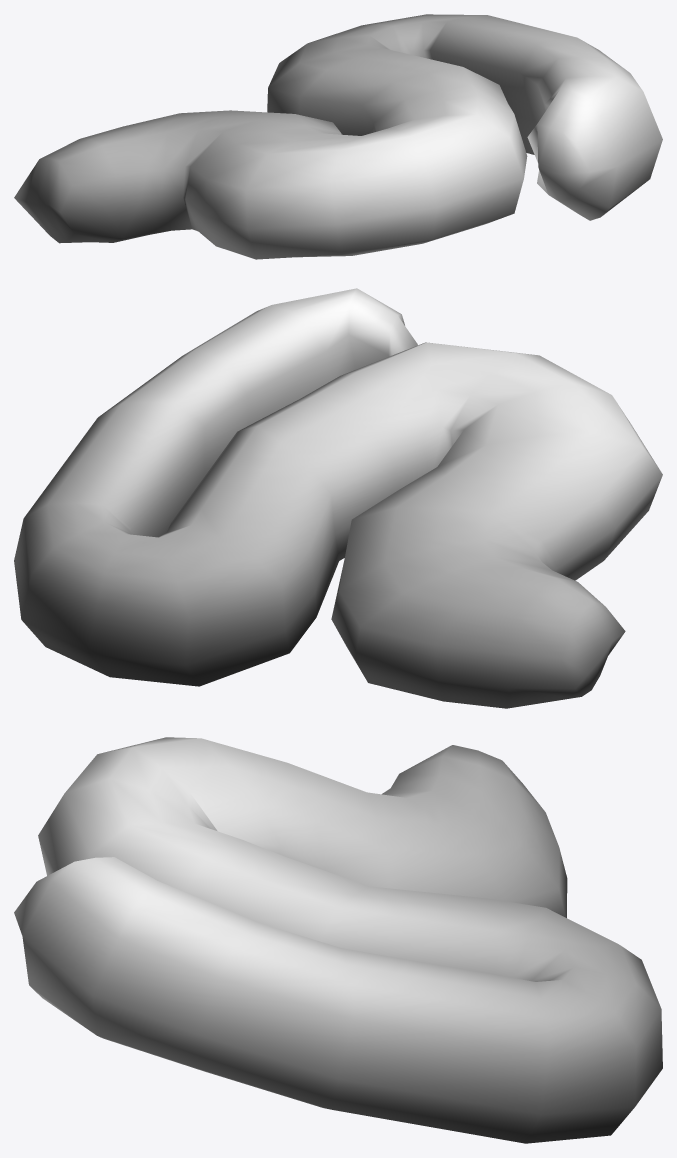
Rendered from BrainPiece2.fbx.
The picture shows the model from 3 angles, top to bottom: view 1: azimuth 30°, elevation 25°; view 2: azimuth 150°, elevation 25°; view 3: azimuth 270°, elevation 25°; orthographic projection. The views are drawn at different scales.
Parts seen in each view (by area): view 1: BrainPiece2; view 2: BrainPiece2; view 3: BrainPiece2.
Part boxes in pixels (x1,y1,x2,y2): BrainPiece2: [14, 14, 662, 259]; BrainPiece2: [14, 288, 662, 708]; BrainPiece2: [14, 737, 662, 1143].
Bounding box in the file's own units: 3.27 × 1.18 × 2.85.
